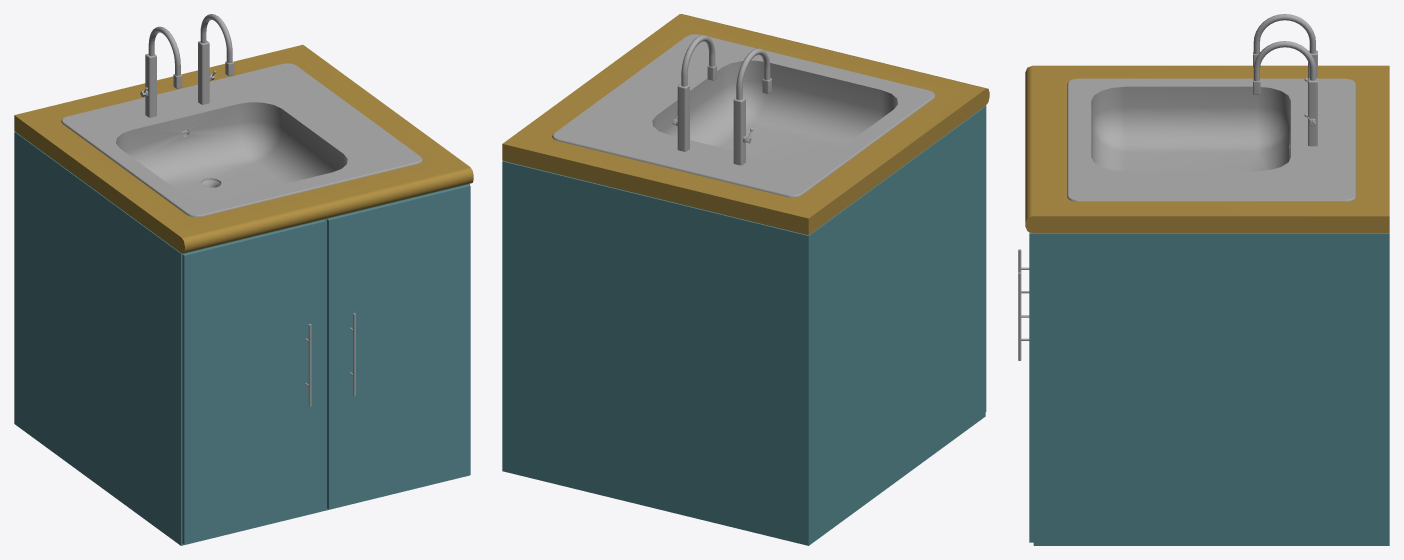
Rendered from sink.fbx.
3 views of the same model, side by side, from view 1: azimuth 30°, elevation 25°; view 2: azimuth 150°, elevation 25°; view 3: azimuth 270°, elevation 25° (orthographic). The views are drawn at different scales.
Visible parts, largest first — view 1: countersink; view 2: countersink; view 3: countersink.
Part boxes in pixels (x1,y1,x2,y2): countersink: (14,14,473,545); countersink: (502,14,989,545); countersink: (1018,14,1389,545).
Size of the model in its own units: 100 by 104 by 134.
